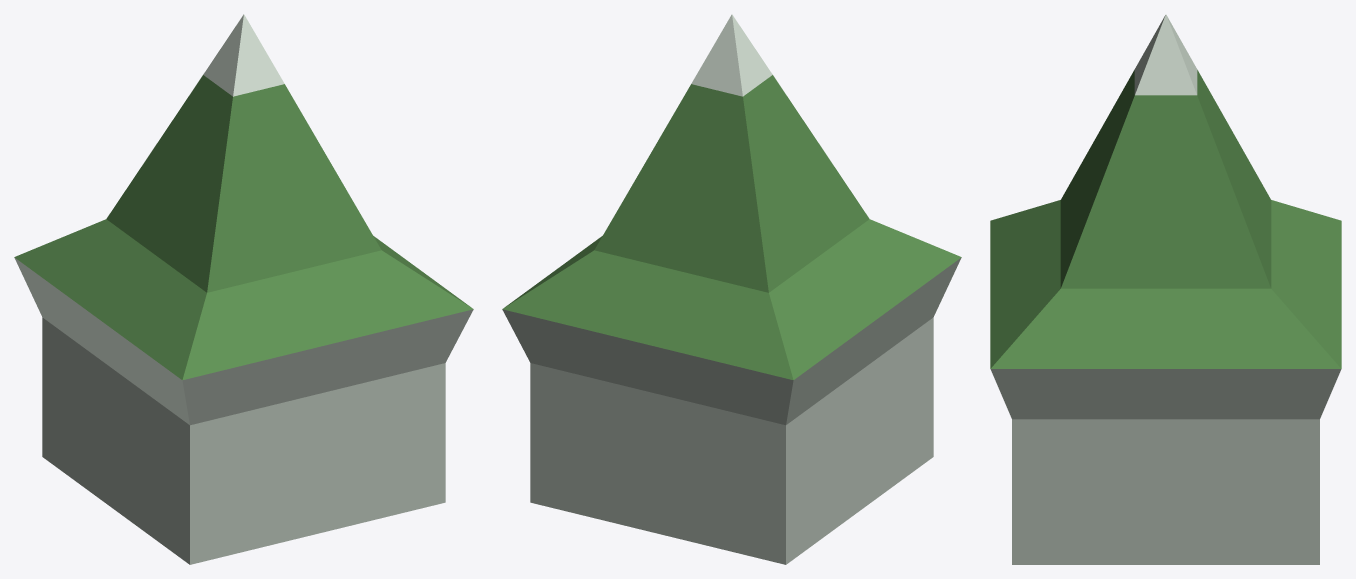
File: tile_022.fbx
3 renders of one model, left to right at view 1: azimuth 30°, elevation 25°; view 2: azimuth 150°, elevation 25°; view 3: azimuth 270°, elevation 25°, orthographic. The views are drawn at different scales.
Visible parts, largest first — view 1: tile_022; view 2: tile_022; view 3: tile_022.
Boxes of the visible parts, bbox=[...] form: tile_022: bbox=[14, 14, 473, 564]; tile_022: bbox=[502, 14, 961, 564]; tile_022: bbox=[990, 14, 1341, 564].
Size of the model in its own units: 6.73 by 10.27 by 6.73.
